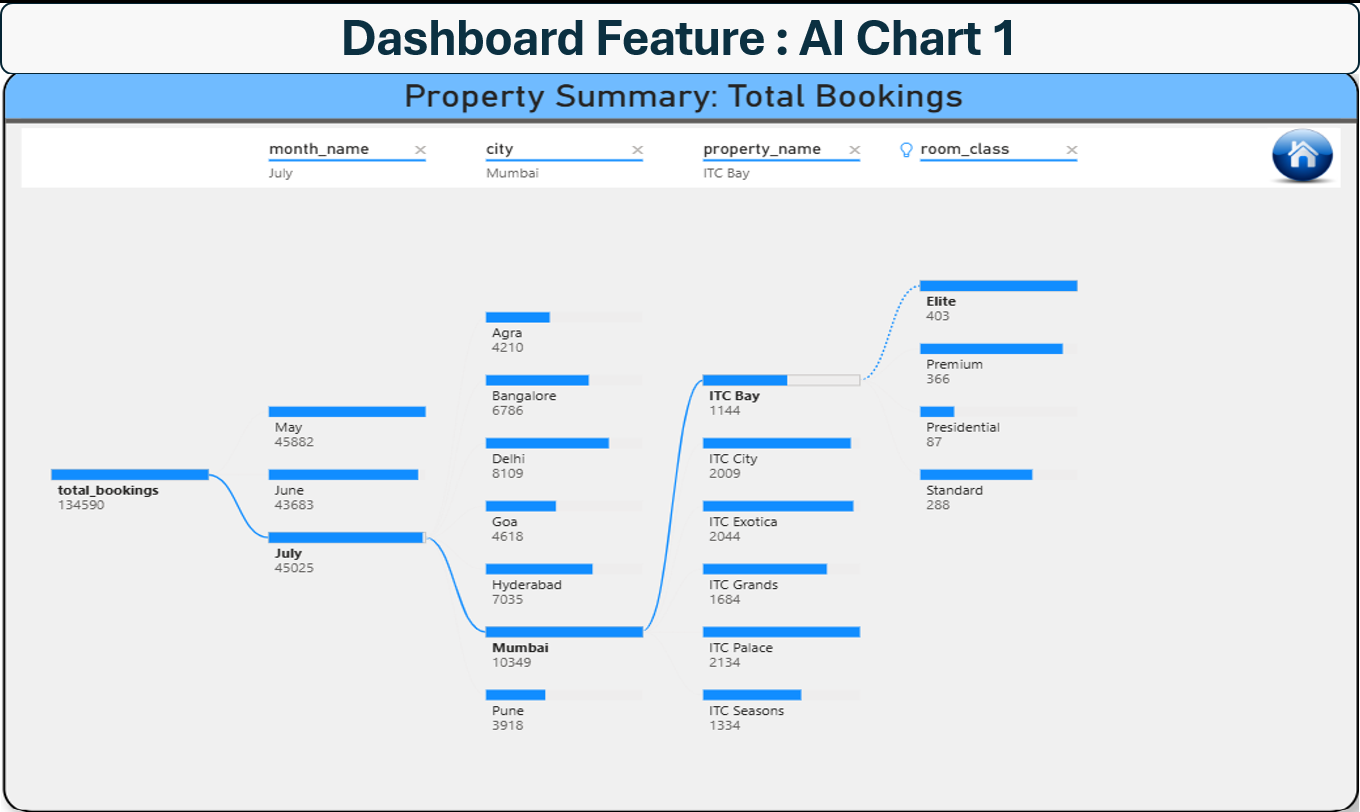

The page's visual inventory and layout, read from the dashboard file:
{"tool":"powerbi","page":{"name":"decomposition_tree","canvas":[1280,720],"ordinal":19},"visuals":[{"type":"decompositionTreeVisual","title":"Property Summary: Total Bookings","fields":{"Analyze":["all_measures.total_bookings"],"ExplainBy":["calendar.month_name","hotels.city","hotels.property_name","rooms.room_class"]},"box":[92.7,0,1123.9,720.6],"z":0},{"type":"image","box":[1135.3,50.4,68.3,69.9],"z":1000}]}

Visuals, with their boxes on the page's 1280x720 design canvas (x1, y1, x2, y2). These are canvas units, not pixel positions in the 1360x812 screenshot, which may show the page scaled, cropped or inside an application window:
"Property Summary: Total Bookings" decompositionTreeVisual: rect(93, 0, 1217, 721)
image: rect(1135, 50, 1204, 120)
